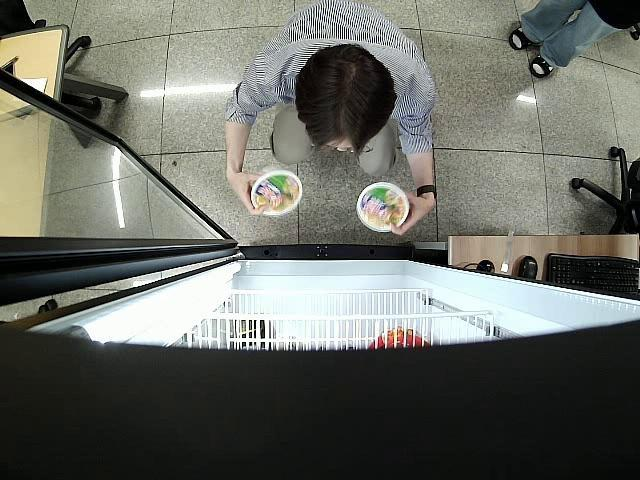09_yukGaeJang: (248, 166, 302, 218), (356, 182, 409, 234)
